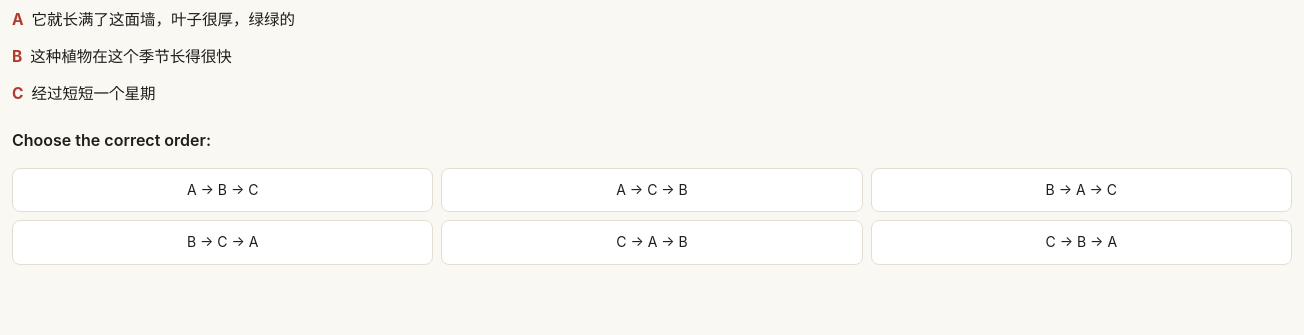
Scenario: SentenceOrderQuestionComponent › marks a wrong permutation red and shows the correct order
This screenshot has width=1304, height=335.
Click the button "A → B → C" at [223, 190], box [12,168,433,212]
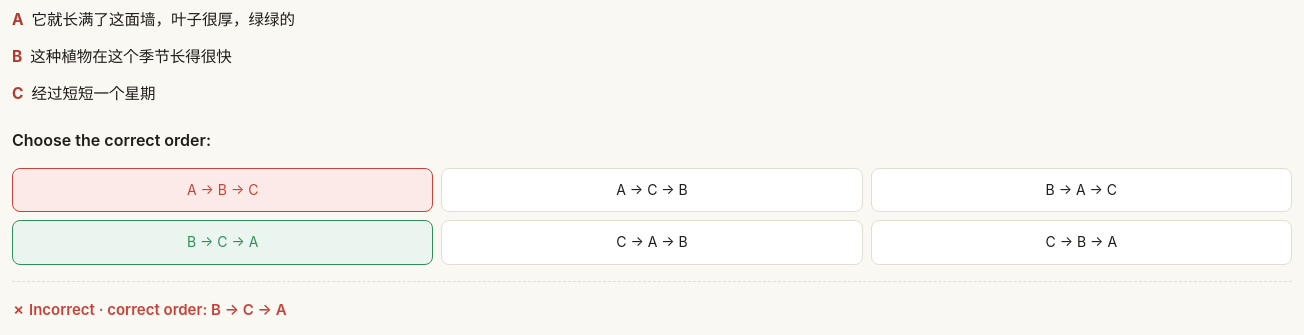
Check: the text with class "bad" shows "correct order: B → C → A", box [12,300,287,319]
